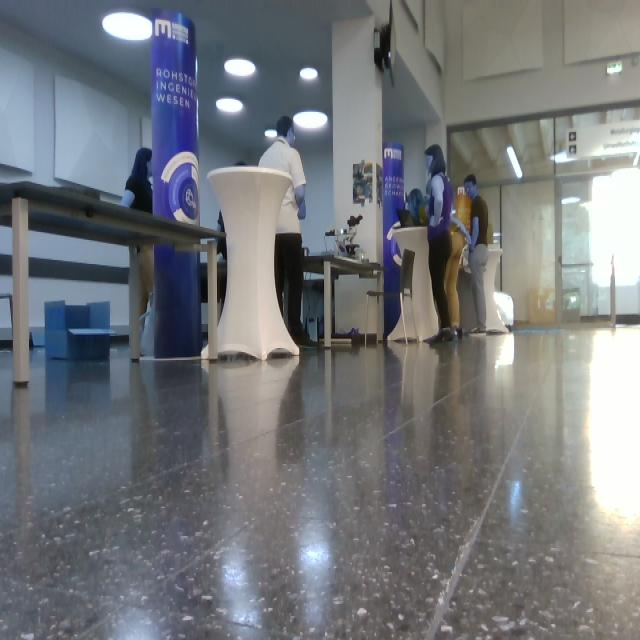door: (501, 178, 557, 325)
light bulb: (102, 11, 153, 43), (293, 111, 328, 131), (224, 58, 256, 77), (507, 146, 523, 180), (216, 97, 243, 113), (300, 66, 318, 81), (606, 61, 623, 74), (265, 129, 278, 138)
person: (258, 116, 319, 349), (423, 144, 455, 345), (120, 148, 154, 330), (463, 174, 489, 333)
pillar: (151, 8, 203, 360), (207, 165, 300, 361)
tiled floor: (1, 324, 639, 638)
